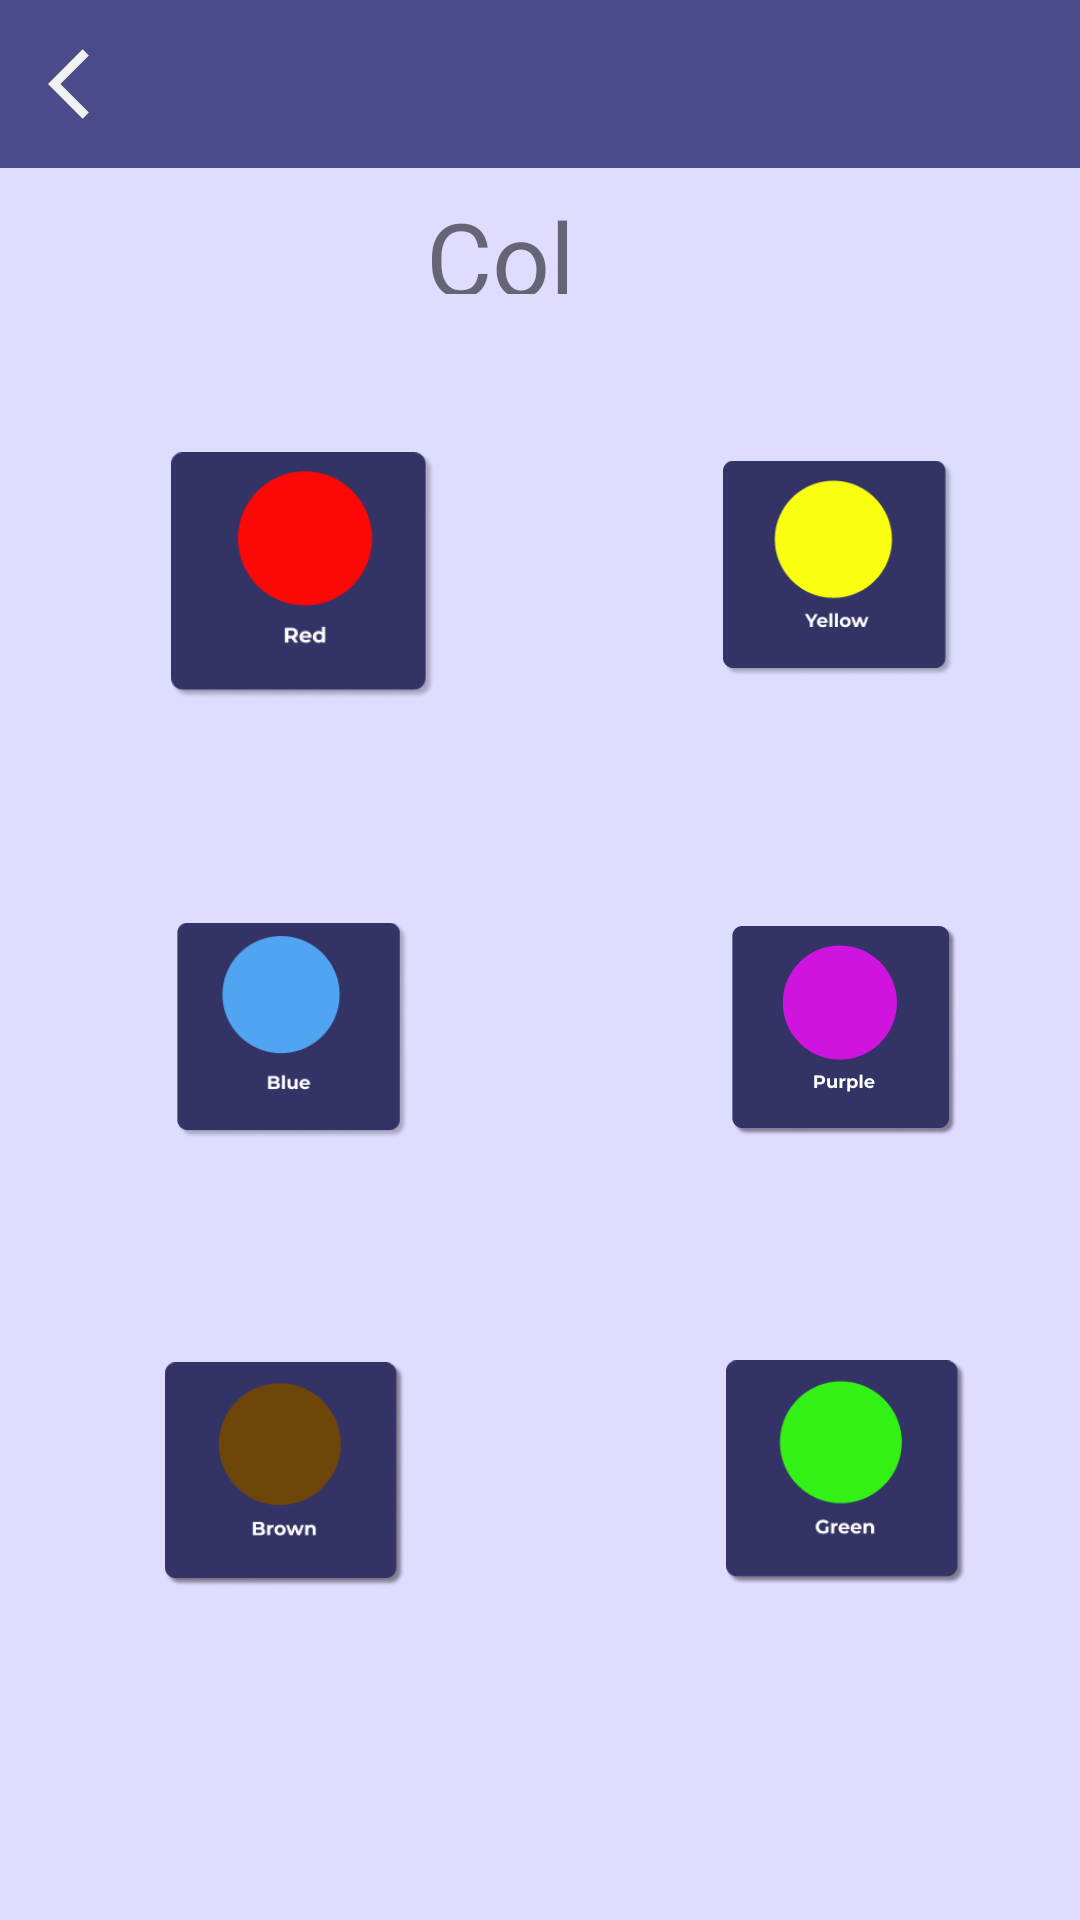

Icon click points for this 1080w x 1920h phone screenshot, format (x,y):
back: (68,84)
